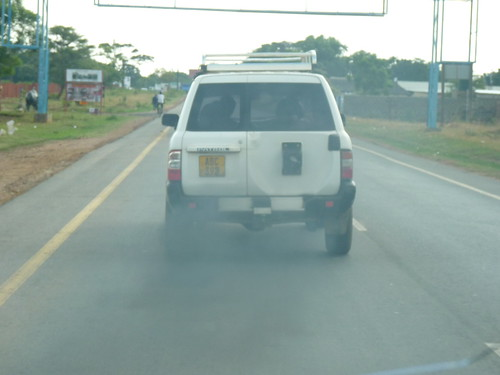car: (164, 64, 359, 257)
road: (7, 112, 500, 372)
sky: (62, 1, 493, 72)
